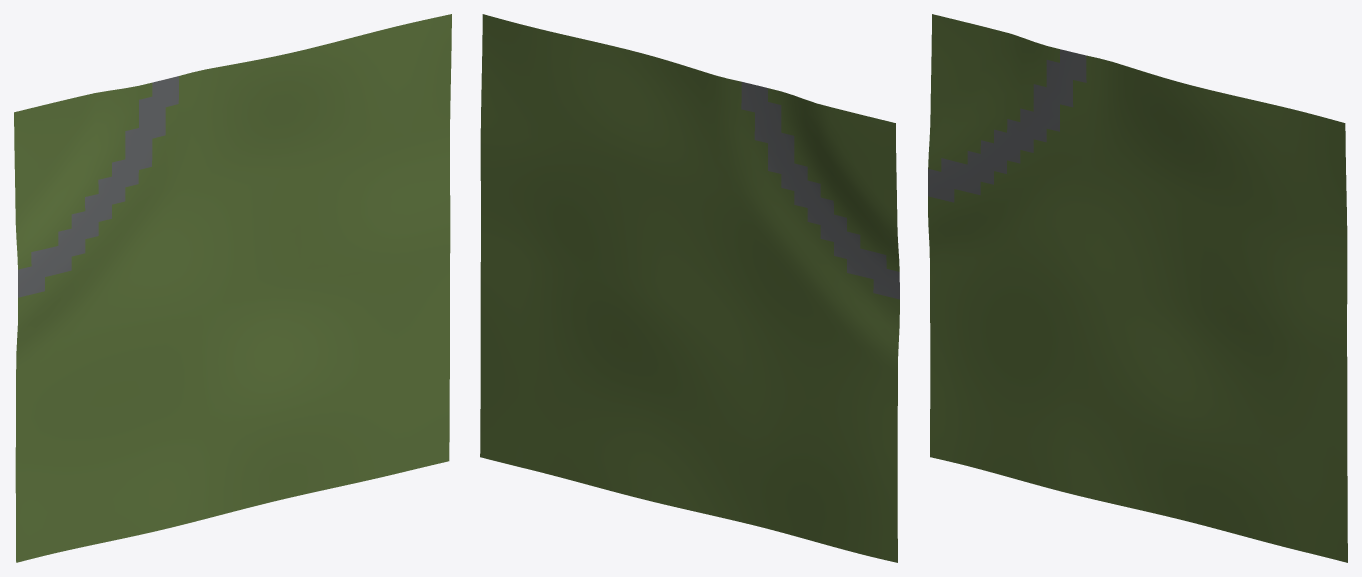
File: island_terrain_24_05.obj
3 renders of one model, left to right at view 1: azimuth 30°, elevation 25°; view 2: azimuth 150°, elevation 25°; view 3: azimuth 330°, elevation 25°, orthographic.
Parts seen in each view (by area): view 1: island_terrain_24_05; view 2: island_terrain_24_05; view 3: island_terrain_24_05.
Part boxes in pixels (x1,y1,x2,y2): island_terrain_24_05: (14, 14, 451, 562); island_terrain_24_05: (480, 14, 899, 562); island_terrain_24_05: (928, 14, 1347, 562).
Bounding box in the file's own units: 256 × 256 × 9.02.
